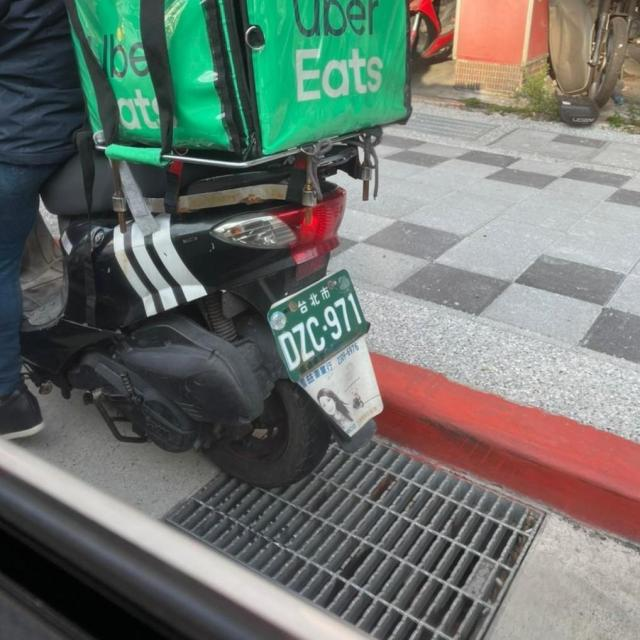GW: (261, 262, 377, 388)
